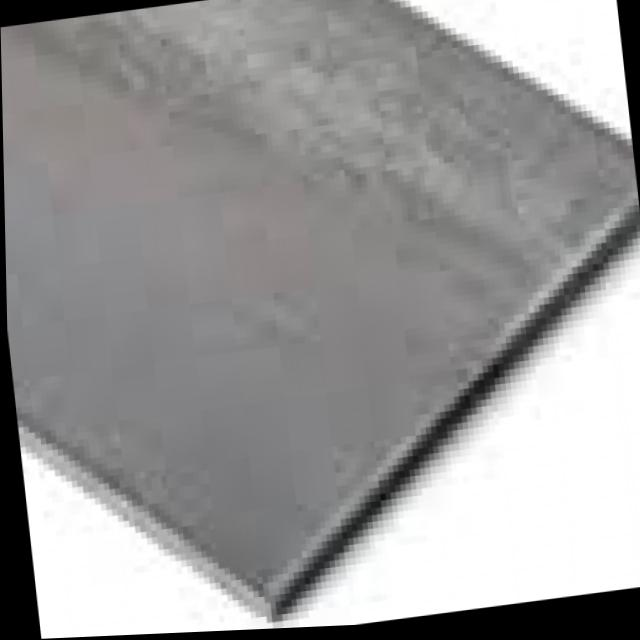metal-plates: (1, 1, 640, 632)
